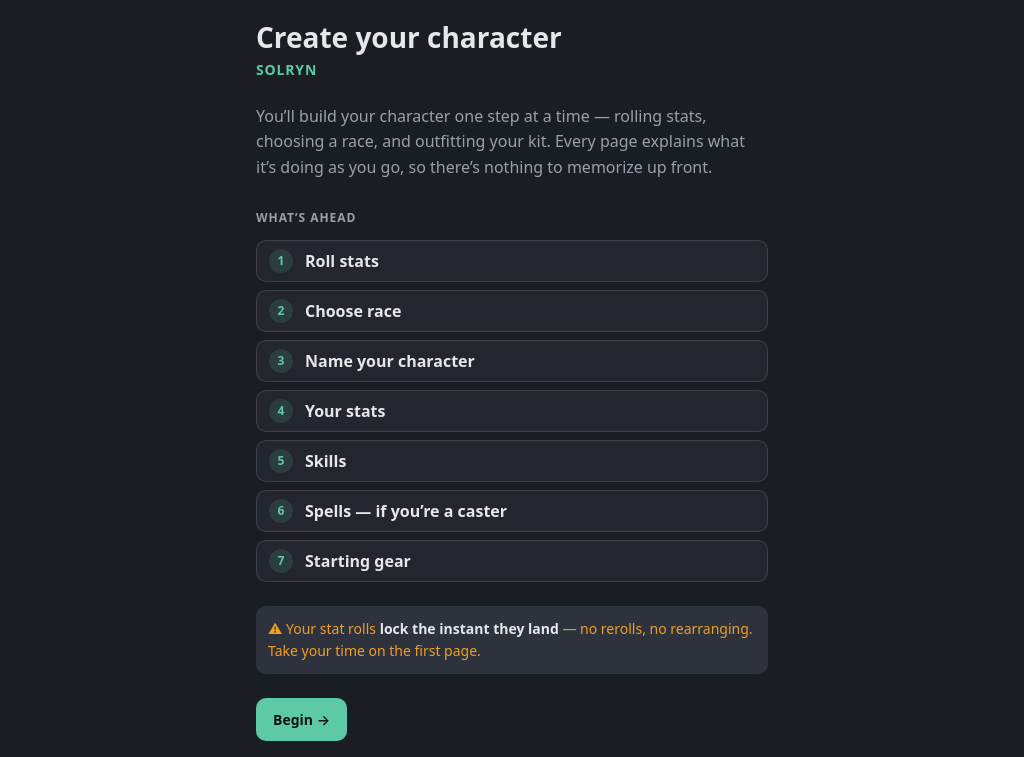
Test: CharacterBuilder (integration smoke) › "Roll all stats" rolls every stat at once and enables Next
Click the button "Begin →": (302, 719) left=256, top=698, right=347, bottom=741
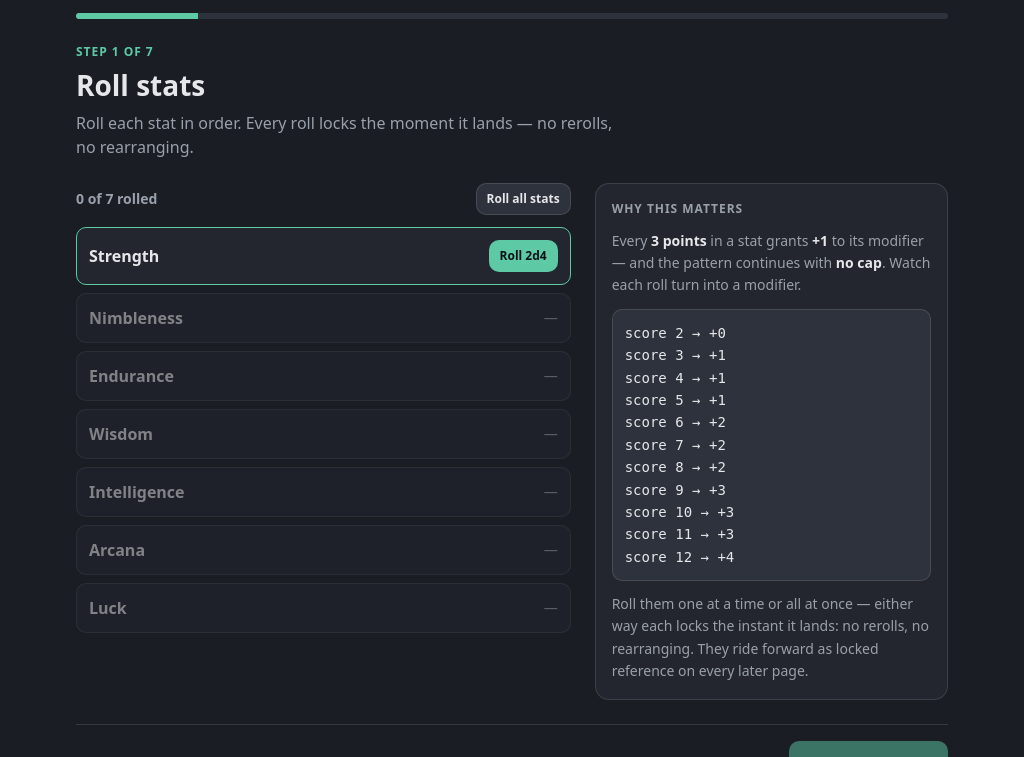
Click the button "Roll all stats": (523, 199) left=476, top=183, right=571, bottom=215
(page scrolled)
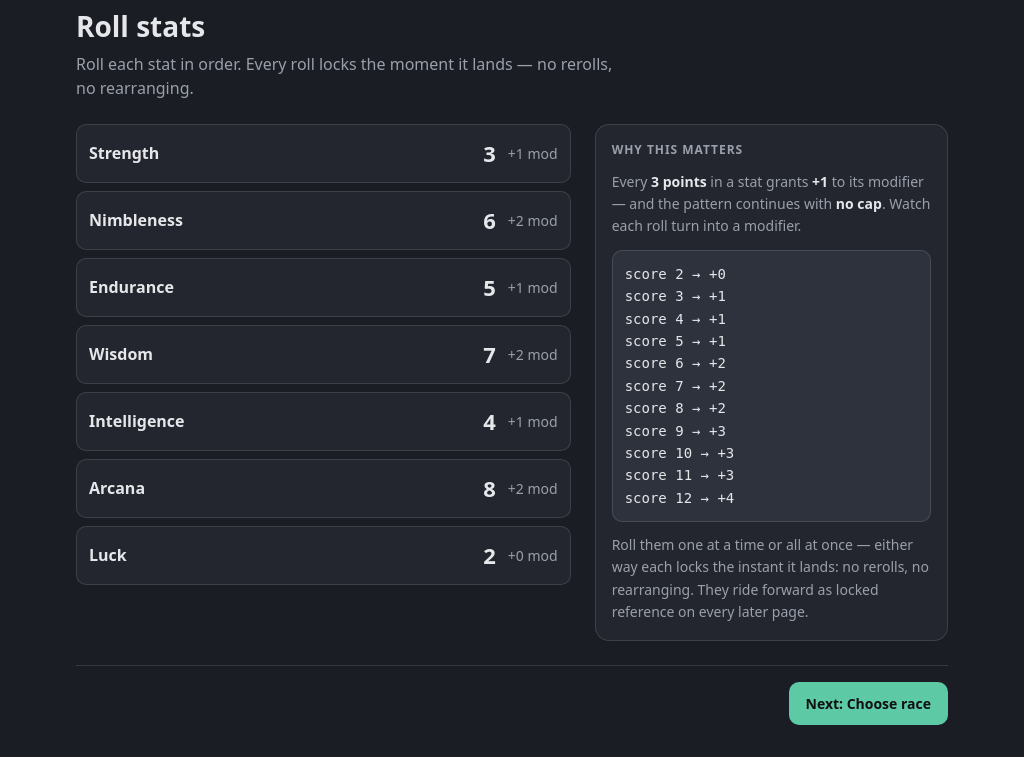
Expected: the button "Next: Choose race" is enabled, left=788, top=682, right=948, bottom=725
